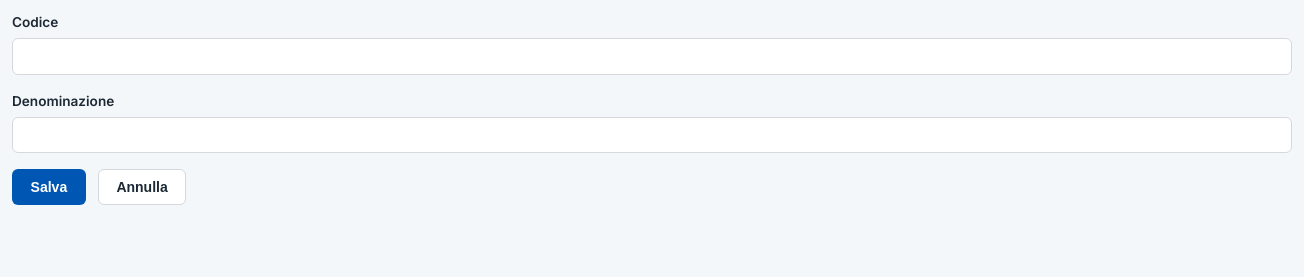
Test: DisciplinaForm › errore dal backend (409) mostrato nel form
This screenshot has width=1304, height=277.
In the field labelled "Codice": (652, 56) [12, 38, 1292, 75], type "VOLLEY"
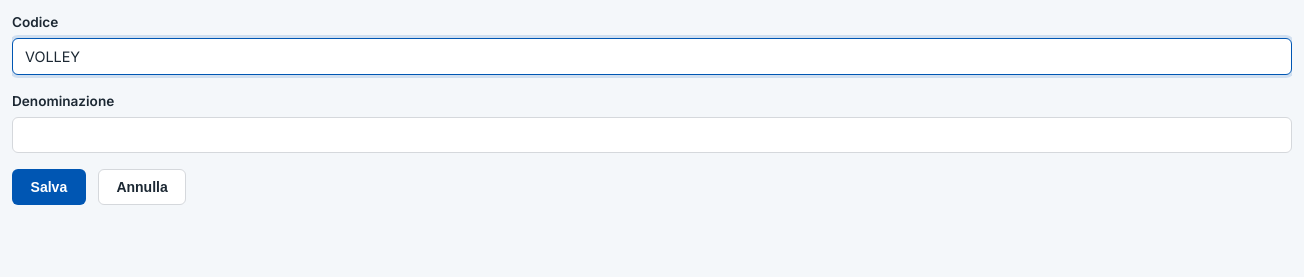
In the field labelled "Denominazione": (652, 135) [12, 117, 1292, 153], type "Pallavolo"
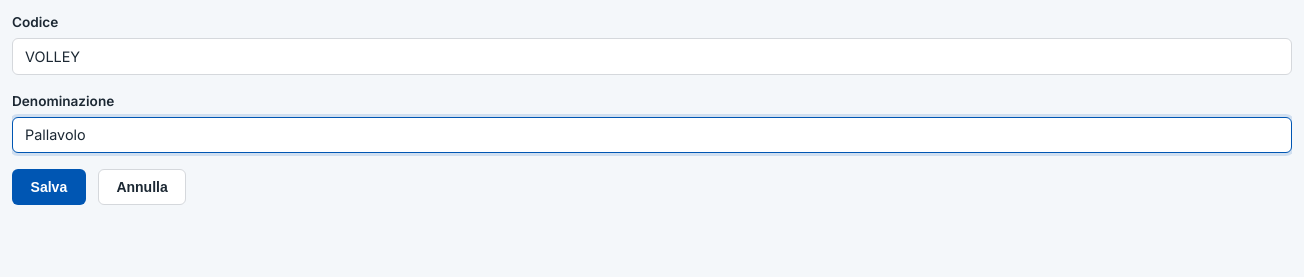
Click the button "Salva": (49, 187) [12, 169, 86, 205]
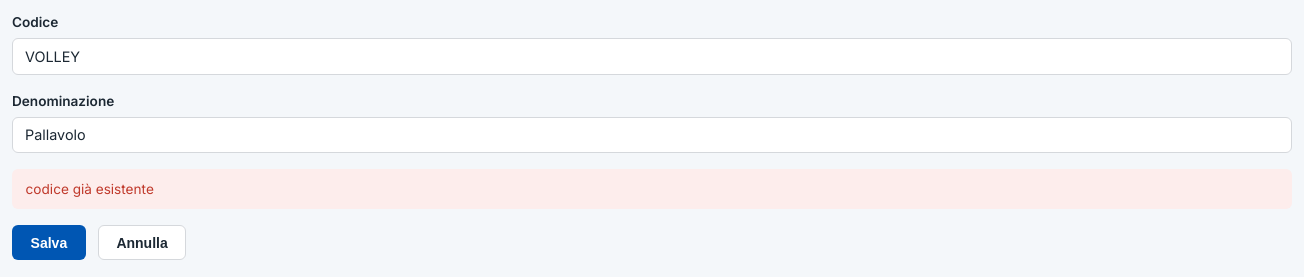
expect the text "codice già esistente" is shown: met, box [12, 169, 1292, 209]
